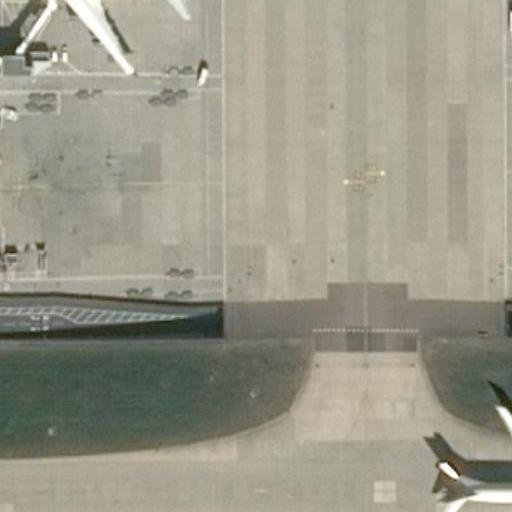Aircraft: (4, 0, 191, 80), (415, 391, 512, 512)
